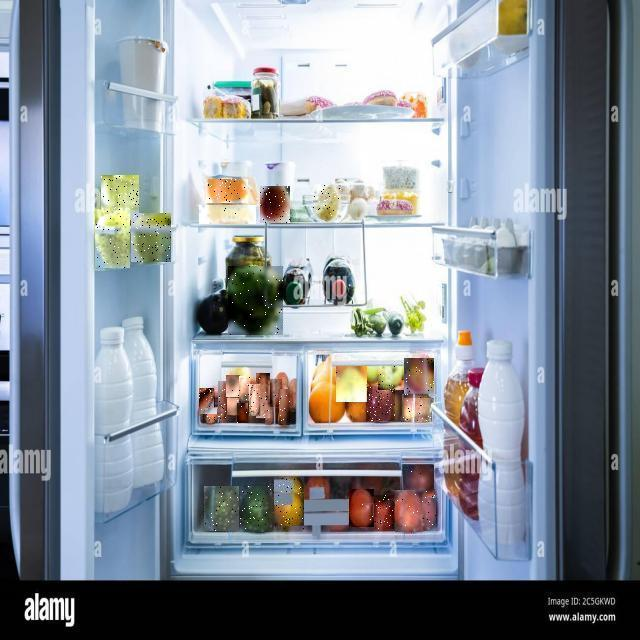apple: (187, 211, 618, 633), (187, 199, 621, 597), (168, 210, 564, 632), (176, 195, 582, 585), (152, 201, 520, 603), (116, 112, 407, 334), (45, 131, 216, 393), (30, 134, 160, 402), (31, 111, 170, 333)
bell_pepper: (122, 265, 426, 640), (104, 266, 376, 640), (84, 266, 323, 640)
carrot: (134, 212, 426, 638), (129, 204, 411, 610), (121, 209, 391, 627), (119, 208, 379, 624), (113, 212, 361, 634), (114, 200, 364, 602), (108, 208, 346, 622), (106, 198, 346, 596), (105, 210, 332, 628), (98, 212, 316, 634), (91, 207, 309, 621)
cheese: (71, 112, 327, 336), (82, 102, 330, 304)
